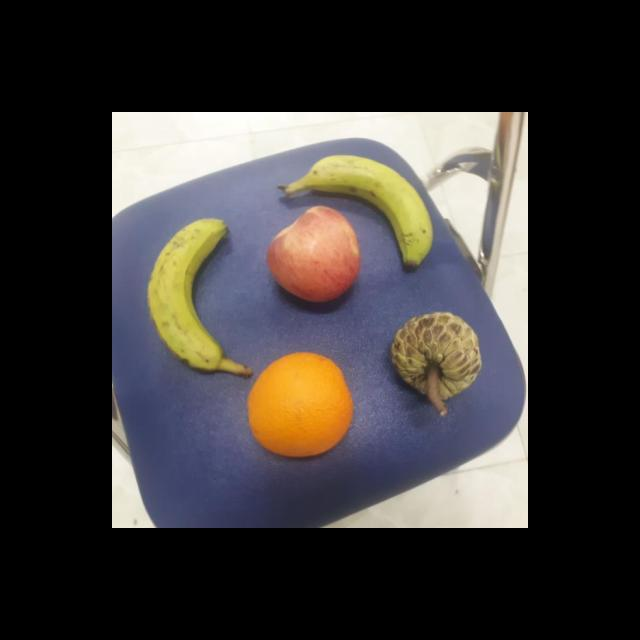Sakya fruit: (386, 310, 486, 402)
apple: (260, 205, 358, 306)
banana: (143, 216, 250, 382), (292, 151, 436, 273)
orange: (244, 352, 354, 462)
